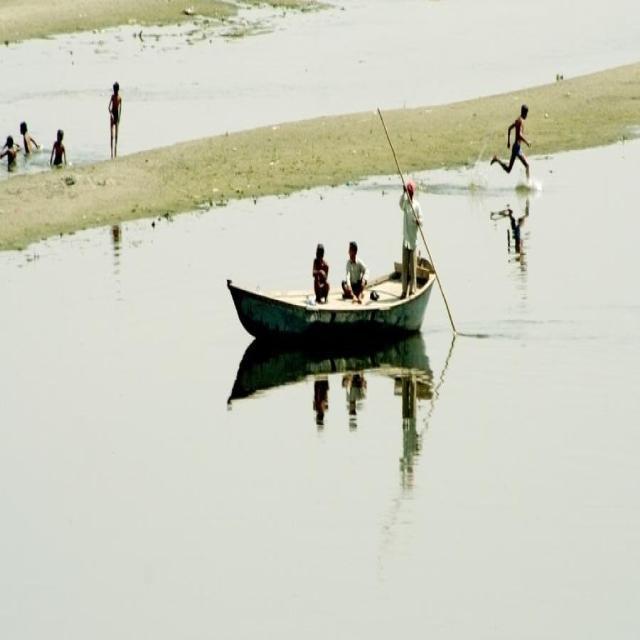boat: (220, 251, 455, 333)
